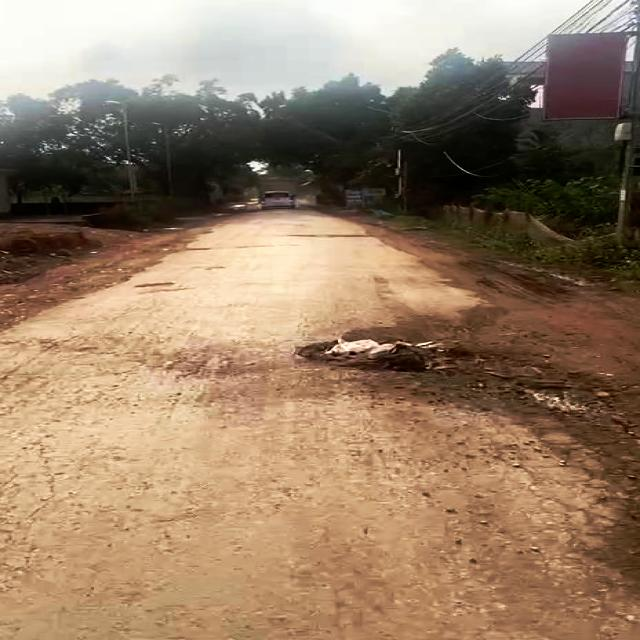pothole: (302, 338, 508, 384)
